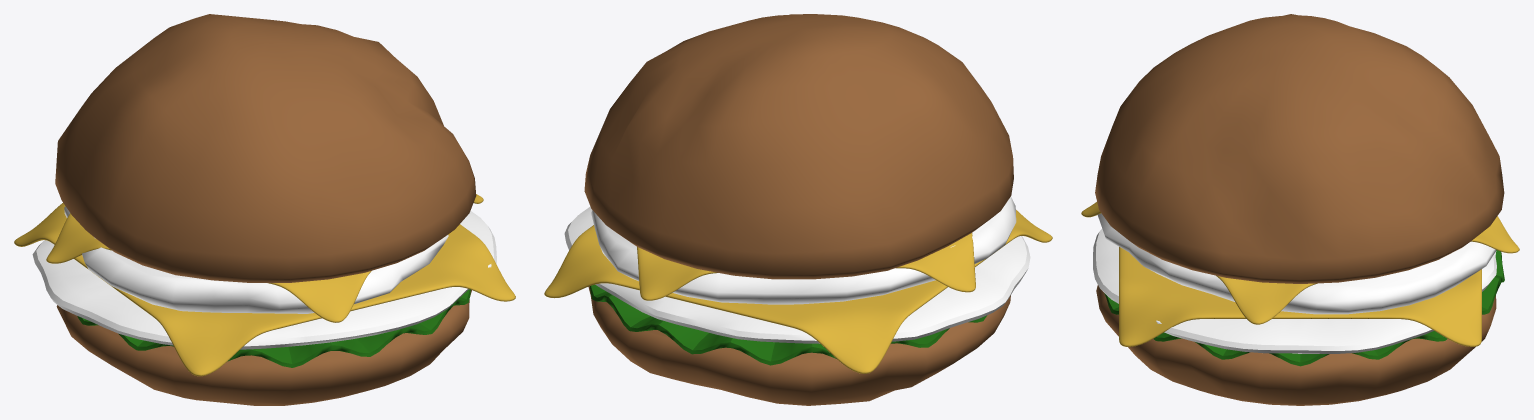
File: burguiir.glb
3 renders of one model, left to right at view 1: azimuth 30°, elevation 25°; view 2: azimuth 150°, elevation 25°; view 3: azimuth 270°, elevation 25°, orthographic. The views are drawn at different scales.
Parts seen in each view (by area): view 1: Pan Arriba, Pan abajo, Quesito, Carne 1, Carne 1.001, Quesito.001, Lechuga; view 2: Pan Arriba, Pan abajo, Quesito, Carne 1, Carne 1.001, Lechuga, Quesito.001; view 3: Pan Arriba, Pan abajo, Quesito, Carne 1, Carne 1.001, Quesito.001, Lechuga.
Part boxes in pixels (<box>): Pan Arriba: <box>55,14,476,282</box>; Pan abajo: <box>56,290,471,405</box>; Quesito: <box>14,203,515,376</box>; Carne 1: <box>32,211,496,349</box>; Carne 1.001: <box>64,206,448,313</box>; Quesito.001: <box>46,194,483,322</box>; Lechuga: <box>77,289,470,367</box>; Pan Arriba: <box>584,14,1013,279</box>; Pan abajo: <box>588,286,1010,405</box>; Quesito: <box>544,210,1052,373</box>; Carne 1: <box>564,206,1030,343</box>; Carne 1.001: <box>591,196,1016,304</box>; Lechuga: <box>590,284,987,365</box>; Quesito.001: <box>637,233,975,300</box>; Pan Arriba: <box>1095,14,1504,283</box>; Pan abajo: <box>1096,285,1496,405</box>; Quesito: <box>1119,247,1481,346</box>; Carne 1: <box>1093,228,1496,353</box>; Carne 1.001: <box>1097,213,1496,314</box>; Quesito.001: <box>1081,202,1519,324</box>; Lechuga: <box>1104,250,1504,366</box>.
Size of the model in its own units: 4.99 by 3.78 by 4.83.
